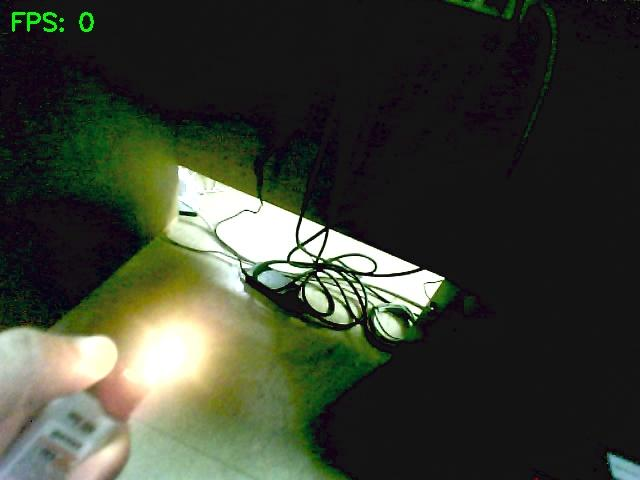fire: (124, 325, 201, 385)
